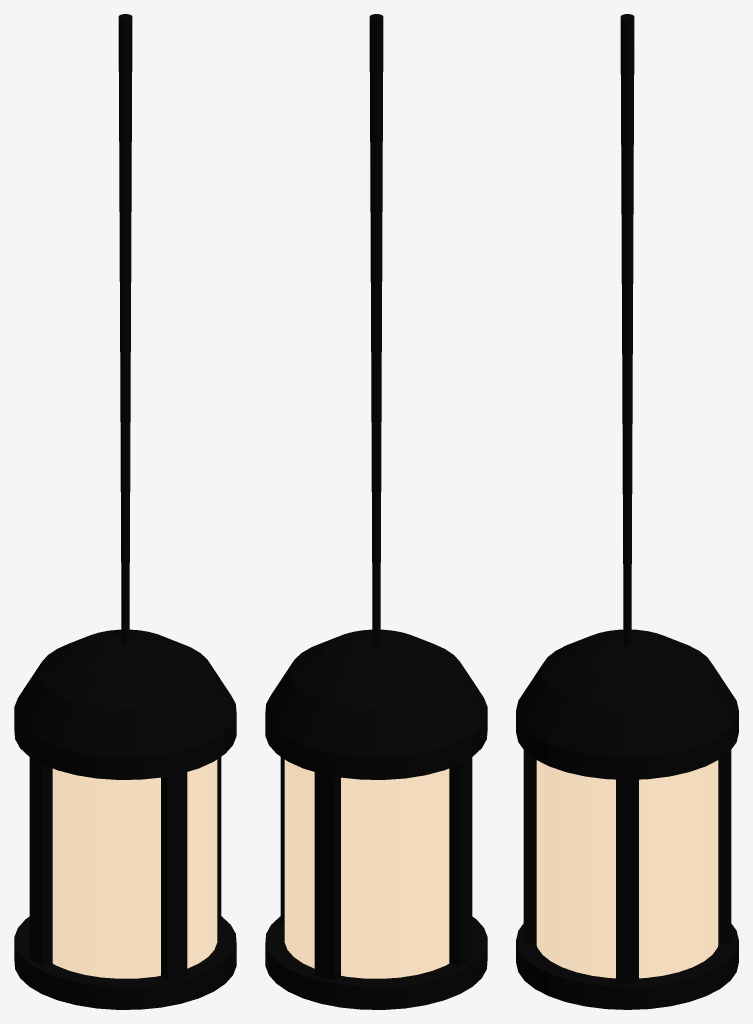
The model's file is LANTERN.glb.
3 views of the same model, side by side, from view 1: azimuth 30°, elevation 25°; view 2: azimuth 150°, elevation 25°; view 3: azimuth 270°, elevation 25° (orthographic).
Parts seen in each view (by area): view 1: Cylinder.002, Cylinder; view 2: Cylinder.002, Cylinder; view 3: Cylinder.002, Cylinder.
Boxes of the visible parts, x1,y1,x2,y2 form: Cylinder.002: (14, 14, 236, 1009); Cylinder: (52, 759, 217, 978); Cylinder.002: (265, 14, 487, 1009); Cylinder: (284, 759, 449, 978); Cylinder.002: (516, 14, 738, 1009); Cylinder: (536, 760, 718, 978).
Size of the model in its own units: 2.42 by 11.35 by 2.42.
